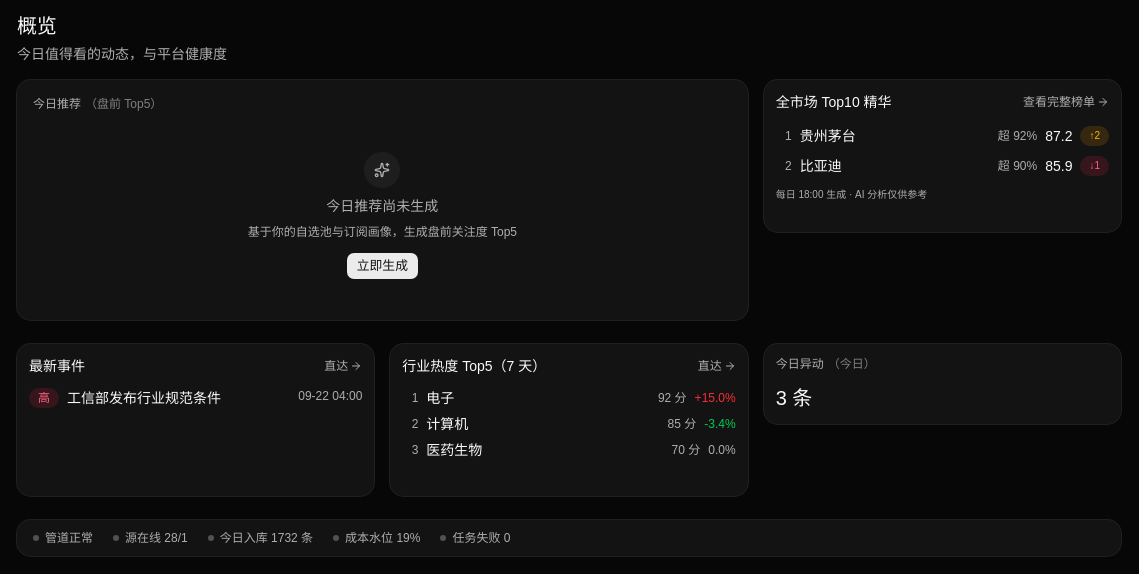
Test: Overview 今日推荐主位（保留零回归） › 推荐卡·空池两路：生成返回 status=3 与只读无推荐条目，均显示「去自选清单」CTA
Check: the element with test id "rec-pending" is shown, box x1=248 y1=152 x2=517 y2=280
What coordinates should you click on to do the following:
click the button with test id "rec-generate"
I would click on:
 (382, 266)
Its box is x1=346 y1=252 x2=419 y2=280.
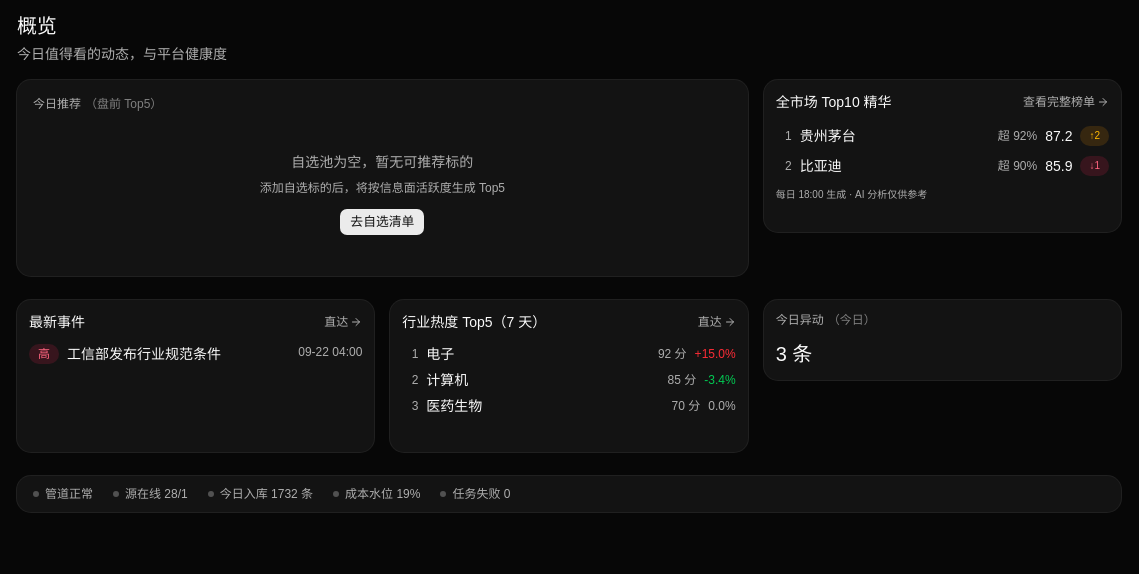
Check: the element with test id "rec-empty-pool" shows "自选池为空", box x1=291 y1=154 x2=473 y2=170
